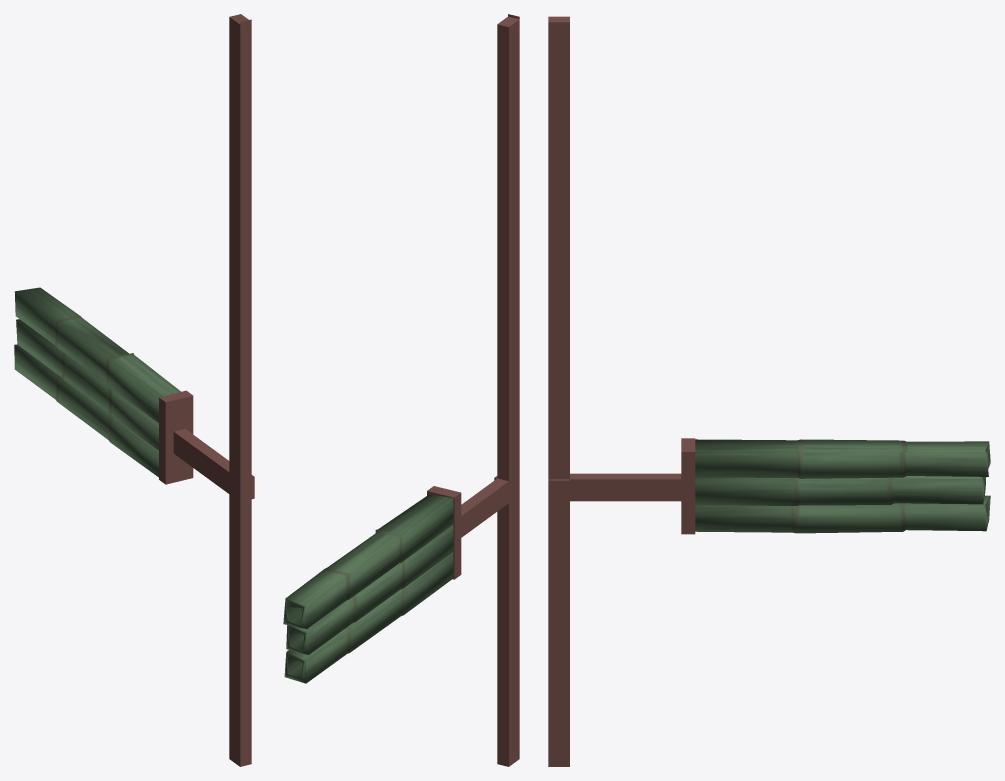
File: bamboo_left_3.glb
3 renders of one model, left to right at view 1: azimuth 30°, elevation 25°; view 2: azimuth 150°, elevation 25°; view 3: azimuth 270°, elevation 25°, orthographic.
Parts seen in each view (by area): view 1: Stand.005, Obstacle__; view 2: Stand.005, Obstacle__; view 3: Obstacle__, Stand.005.
Boxes of the visible parts, x1,y1,x2,y2 form: Stand.005: [159, 14, 254, 766]; Obstacle__: [14, 287, 180, 477]; Stand.005: [427, 14, 519, 766]; Obstacle__: [283, 494, 453, 683]; Obstacle__: [695, 439, 990, 533]; Stand.005: [548, 16, 695, 766].
Bounding box in the file's own units: 0.2157 × 5.55 × 2.98.
Materials: 2 (1 with a texture image).
